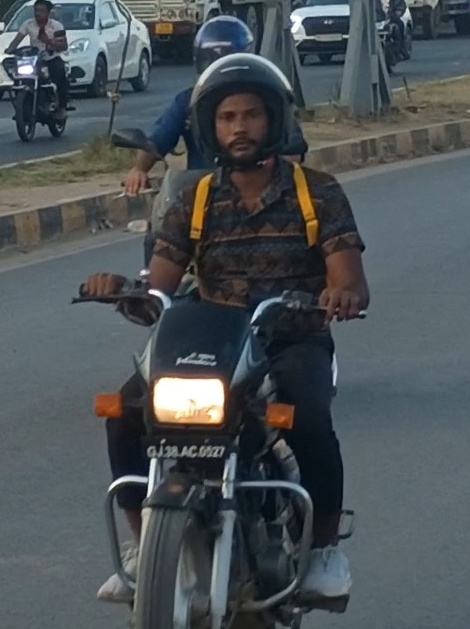BikeWithRider: (61, 49, 379, 629), (105, 10, 304, 318), (2, 0, 80, 153)
Helmet: (188, 53, 304, 173), (181, 14, 260, 98)
NoHelmet: (28, 0, 54, 26)
